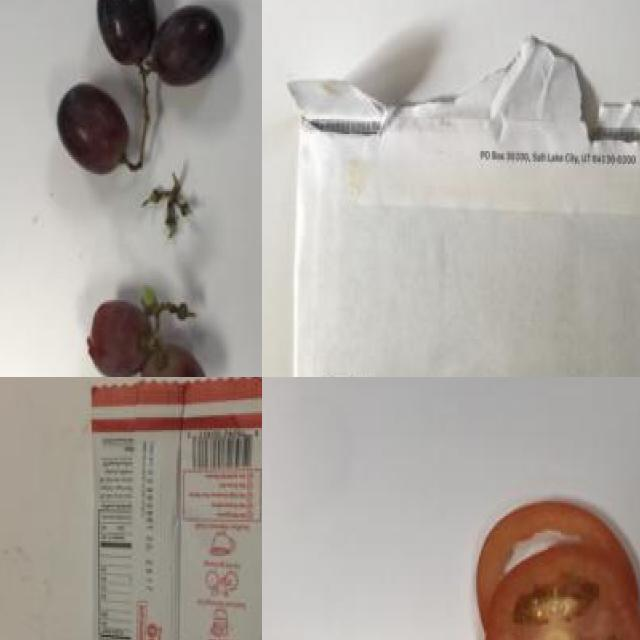compost: (34, 0, 246, 377), (451, 487, 640, 640)
paper: (293, 76, 640, 377)
trash: (69, 377, 262, 640)
